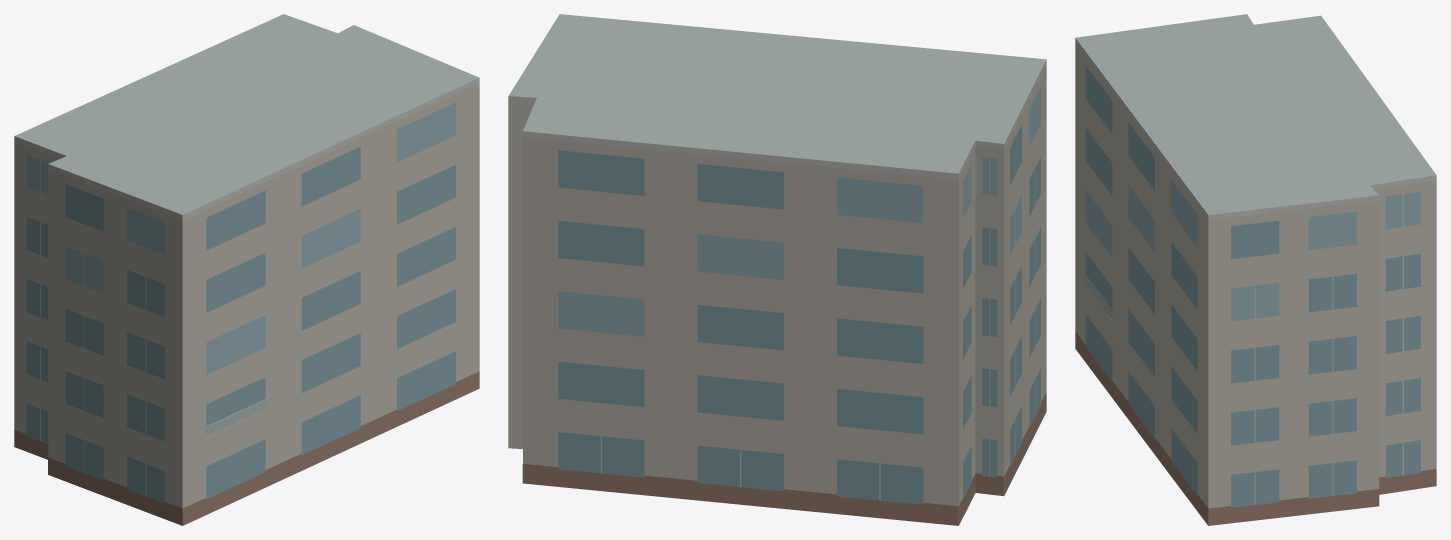
The model's file is survey-upis-32867924.glb.
3 renders of one model, left to right at view 1: azimuth 30°, elevation 25°; view 2: azimuth 150°, elevation 25°; view 3: azimuth 270°, elevation 25°, orthographic. The views are drawn at different scales.
Parts seen in each view (by area): view 1: survey-upis-32867924.tmp; view 2: survey-upis-32867924.tmp; view 3: survey-upis-32867924.tmp.
Part boxes in pixels (bbox=[...]): survey-upis-32867924.tmp: bbox=[14, 14, 479, 525]; survey-upis-32867924.tmp: bbox=[508, 14, 1046, 525]; survey-upis-32867924.tmp: bbox=[1075, 14, 1436, 525].
Bounding box in the file's own units: 20.39 × 14.7 × 15.49.
